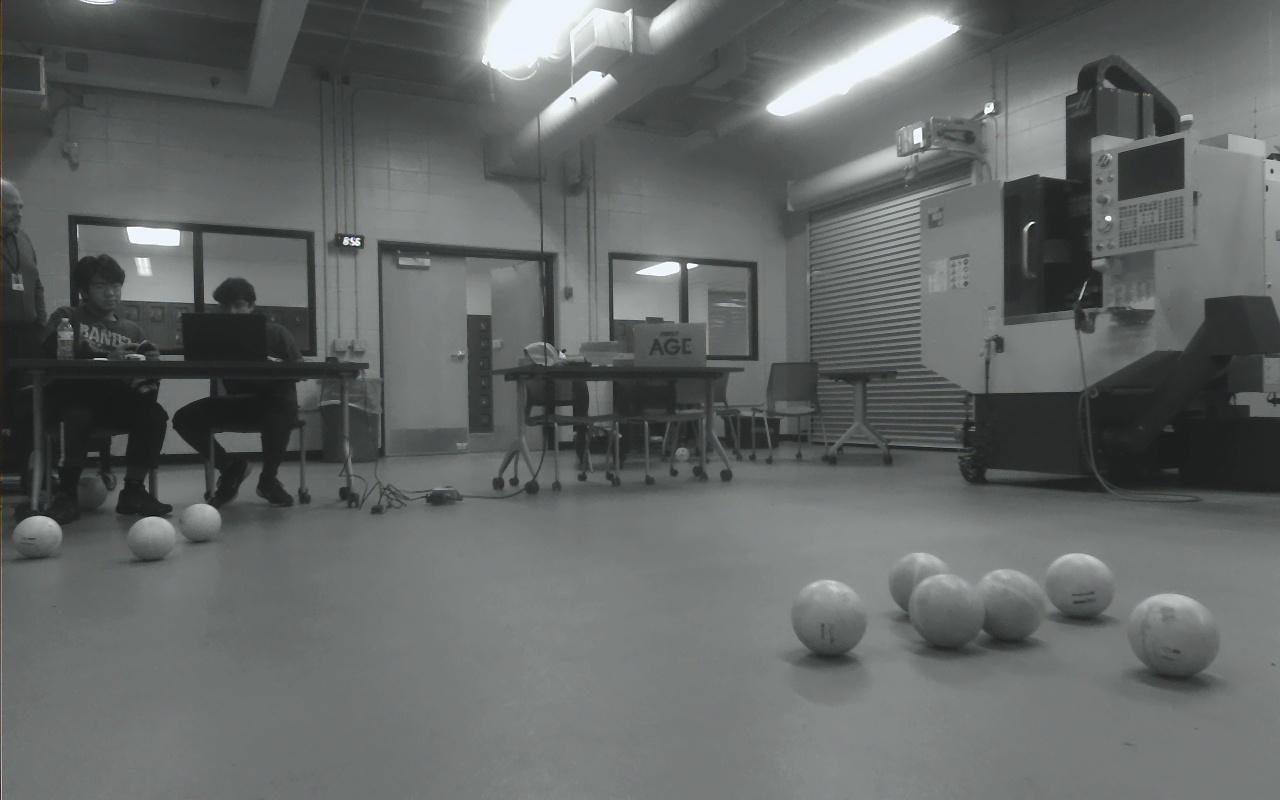Fuel: (1126, 594, 1221, 678), (908, 572, 986, 647), (790, 580, 867, 655), (974, 569, 1044, 641), (1044, 553, 1115, 619), (890, 553, 950, 614), (127, 516, 177, 561), (13, 515, 63, 558), (178, 502, 221, 542)
